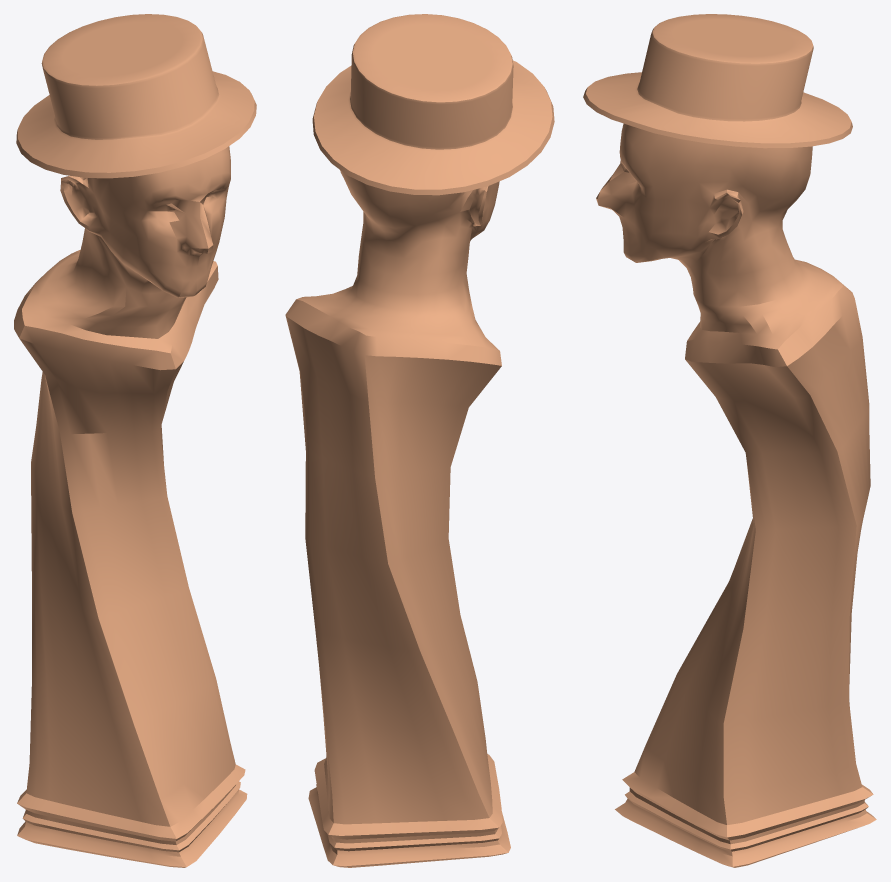
The model's file is Tipo.fbx.
3 renders of one model, left to right at view 1: azimuth 30°, elevation 25°; view 2: azimuth 150°, elevation 25°; view 3: azimuth 270°, elevation 25°, orthographic.
Visible parts, largest first — view 1: Tipo; view 2: Tipo; view 3: Tipo.
Part boxes in pixels (bbox=[...]): Tipo: bbox=[14, 14, 256, 867]; Tipo: bbox=[285, 14, 554, 867]; Tipo: bbox=[583, 14, 876, 867].
Size of the model in its own units: 84.14 by 292 by 98.72.
